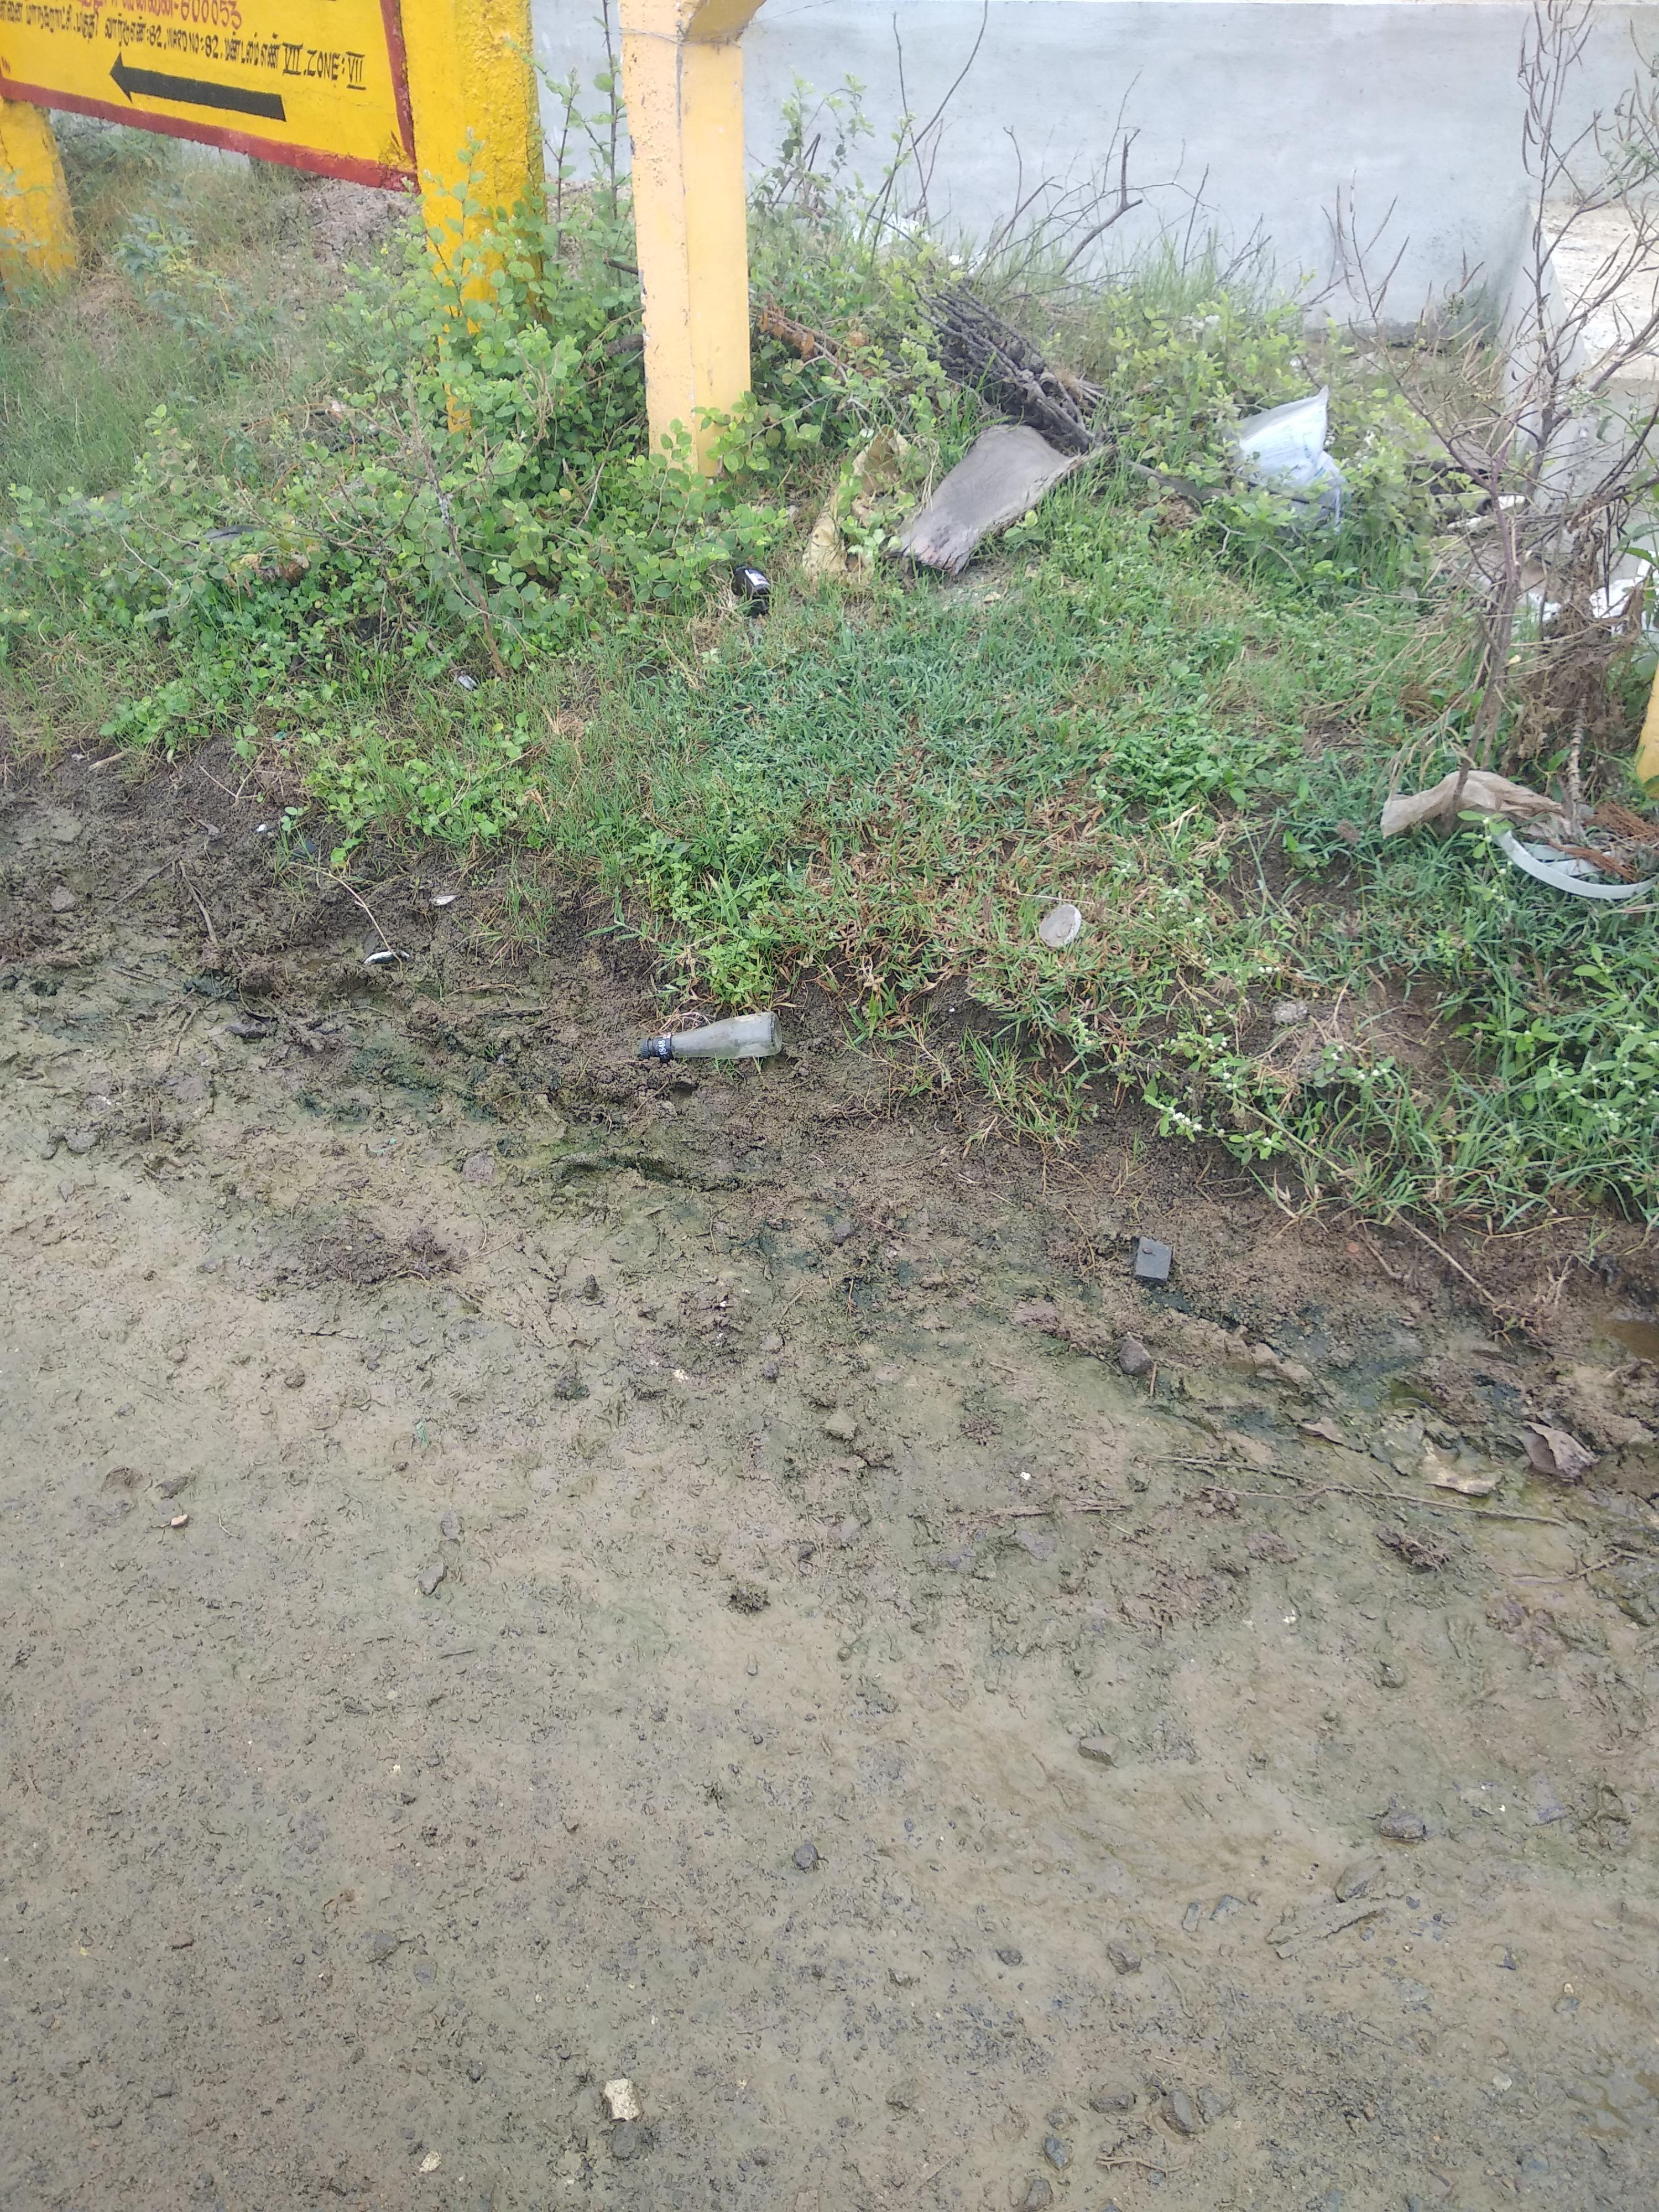organic: (859, 287, 1659, 923)
